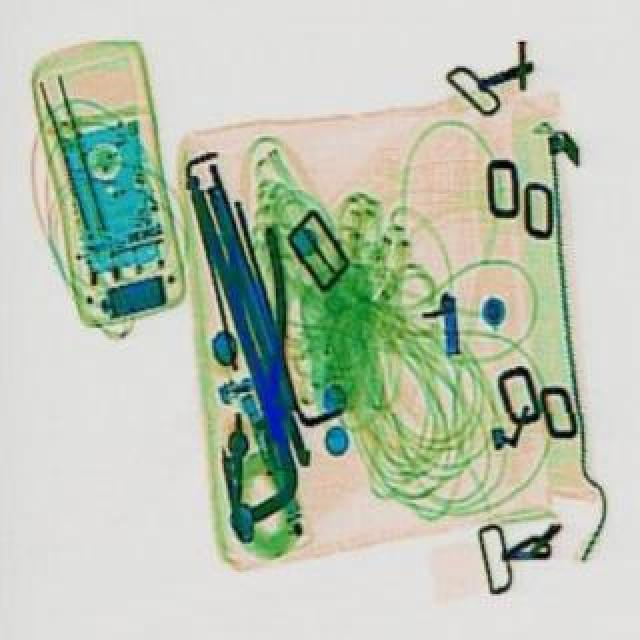wrench: (218, 224, 306, 438)
